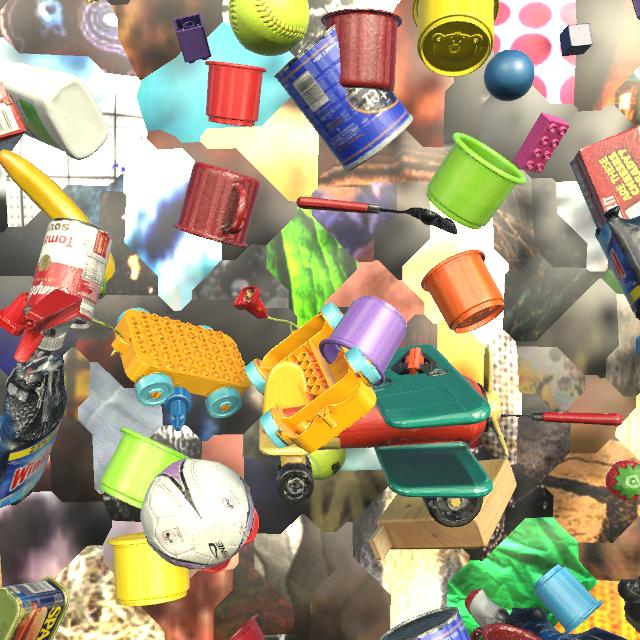ycb_002_master_chef_can: (274, 24, 413, 172), (379, 606, 470, 640)
ycb_003_cracker_box: (570, 125, 640, 228), (0, 82, 27, 151)
ycb_005_tomato_soup_can: (23, 217, 112, 329)
ycb_010_potted_meat_can: (0, 577, 70, 640)
ycb_011_banana: (0, 150, 115, 295)
ycb_012_strawberry: (605, 460, 640, 501)
